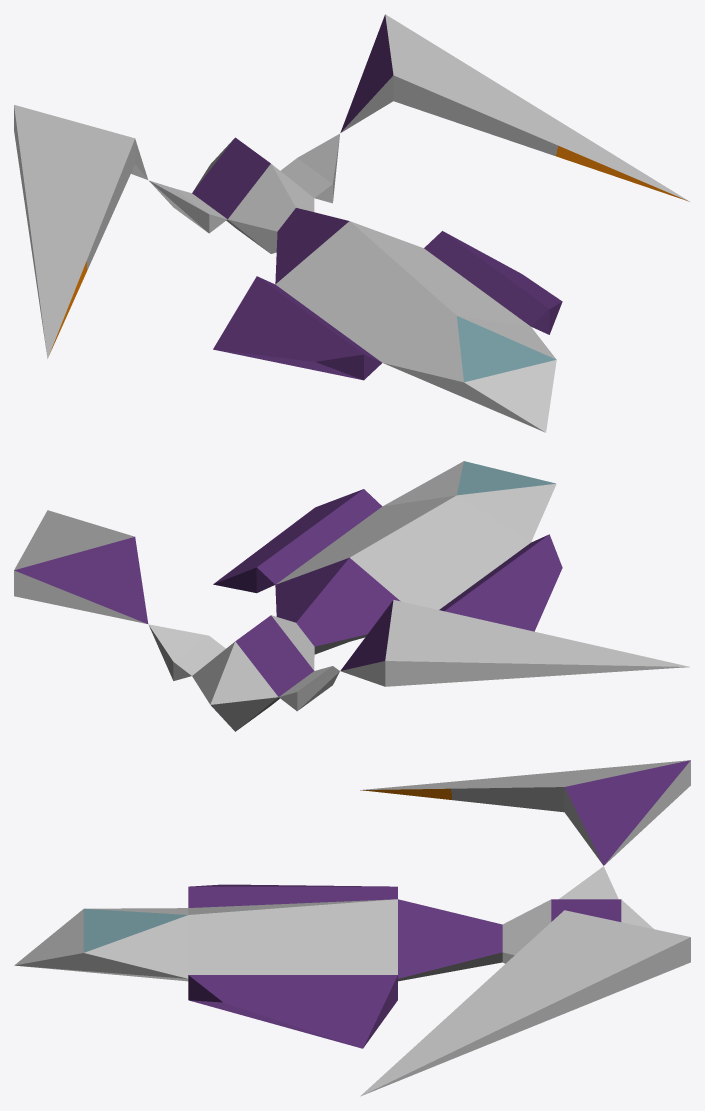
File: Ray Skipper.obj
3 renders of one model, top to bottom at view 1: azimuth 30°, elevation 25°; view 2: azimuth 150°, elevation 25°; view 3: azimuth 270°, elevation 25°, orthographic. The views are drawn at different scales.
Parts seen in each view (by area): view 1: Ray_Skipper; view 2: Ray_Skipper; view 3: Ray_Skipper.
Boxes of the visible parts, box(x1,y1,x2,y2) form: Ray_Skipper: box(14, 14, 689, 432); Ray_Skipper: box(14, 461, 689, 731); Ray_Skipper: box(14, 760, 690, 1096).
Size of the model in its own units: 2.08 by 0.44 by 1.94.
